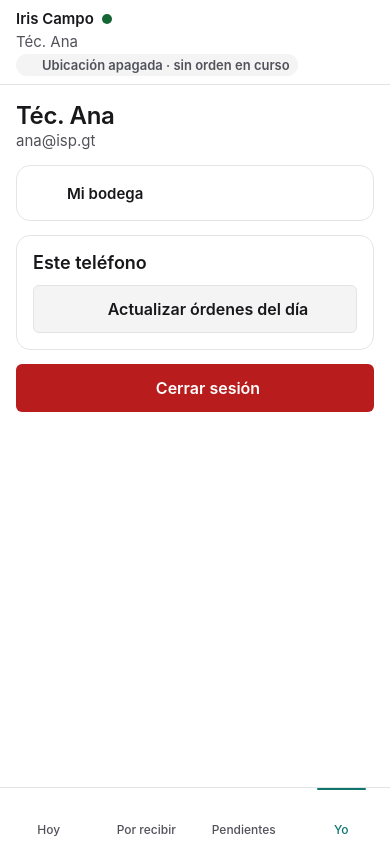
Test case: «Por recibir» y «Mi bodega» (light) › «Mi bodega» en «Yo»: solo lectura; si falla dice por qué y «Reintentar» la lee
Click the button "Mi bodega".
click(105, 193)  # box [16, 165, 374, 221]
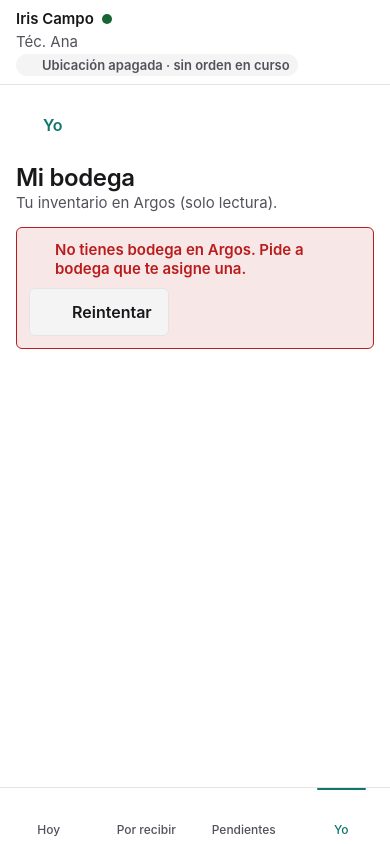
Check: the message with test id "error-lectura" shows "No tienes bodega en Argos", box [55, 240, 307, 278]
Click the button "Reintentar".
click(99, 312)  # box [29, 288, 169, 336]
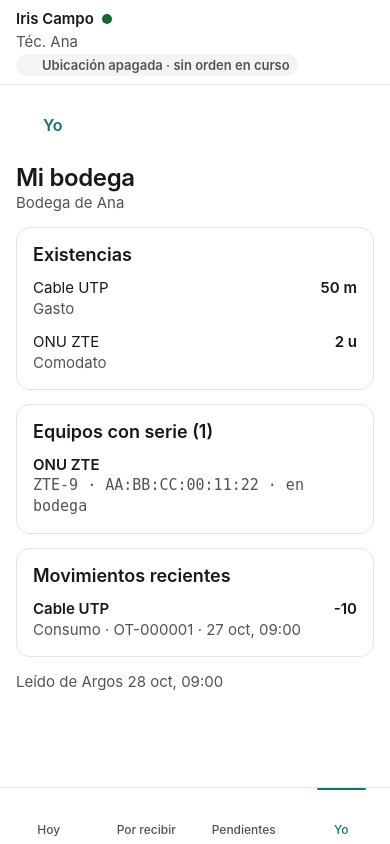
Check: the element with test id "existencias" shows "Cable UTP", box [33, 278, 109, 297]
Check: the element with test id "existencias" shows "Comodato", box [33, 353, 106, 372]
Check: the text "ZTE-9 · AA:BB:CC:00:11:22 · en bodega" is shown, box [33, 475, 357, 517]
